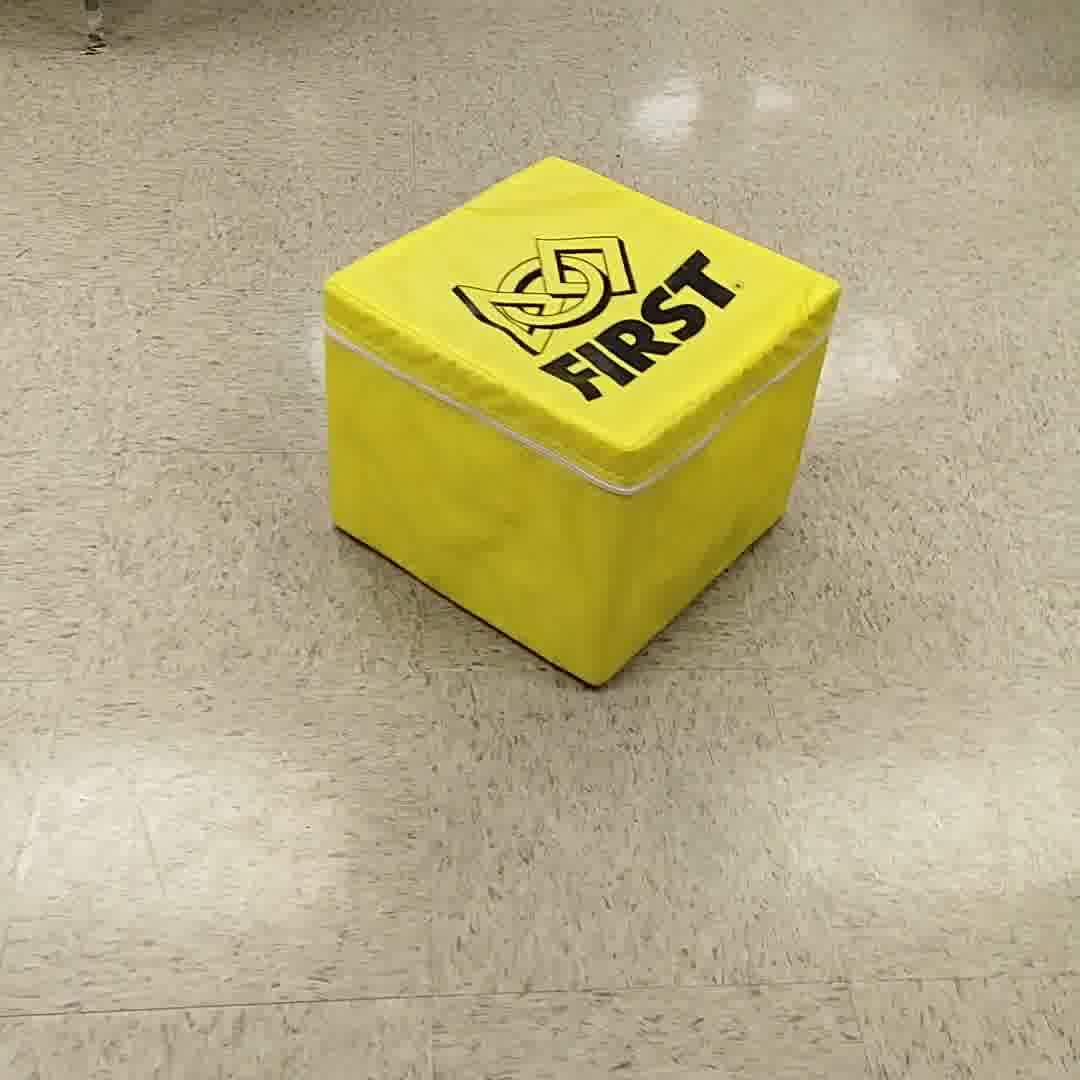box: (311, 169, 851, 695)
